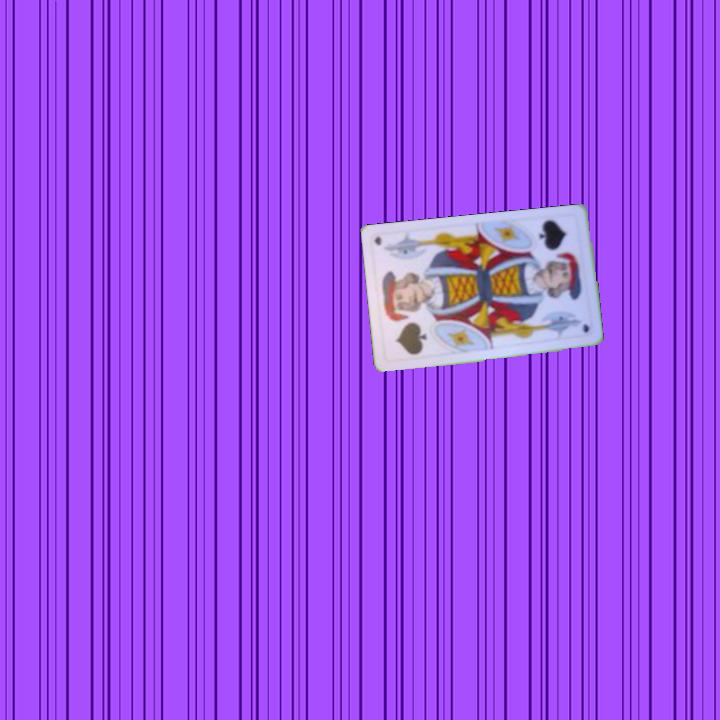s_j.png: (523, 214, 587, 285), (377, 289, 440, 361)
